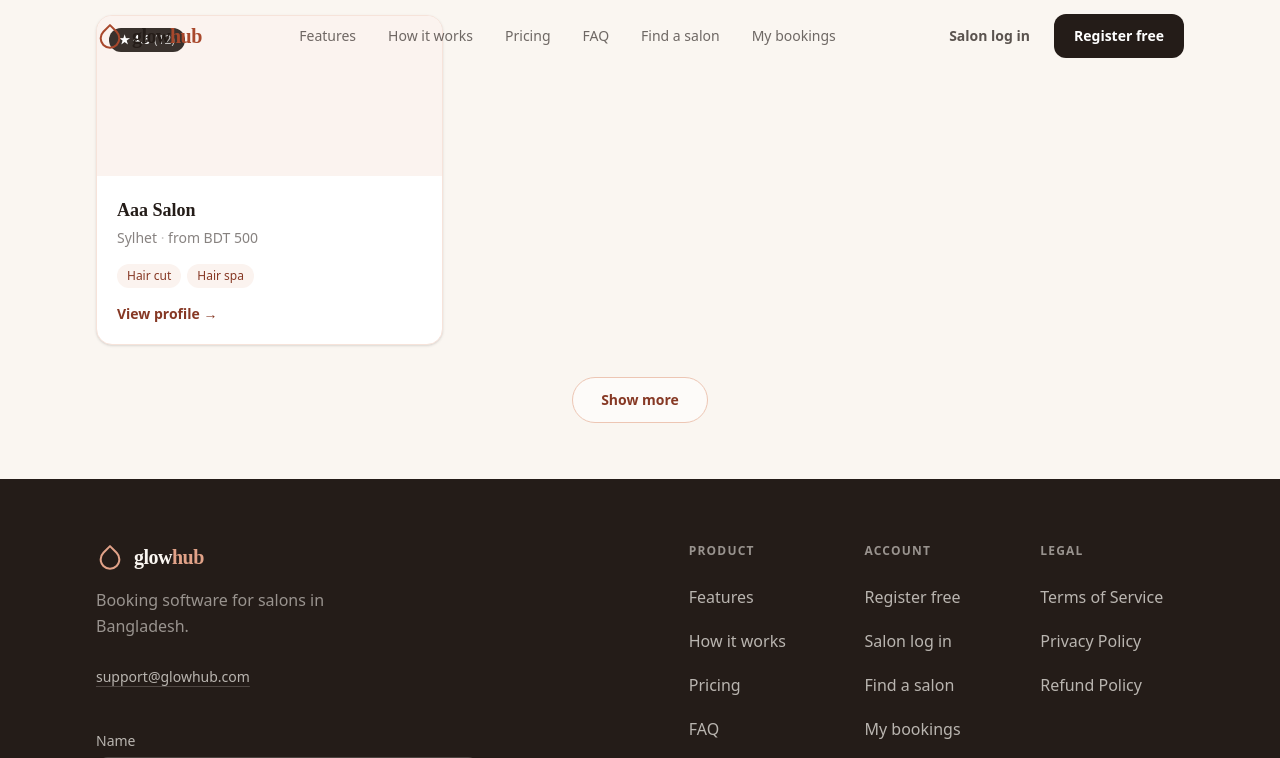
Test case: SalonSearchView › does not leave "Show more" stuck loading when a new query wins the race
(page scrolled)
Click the button with test id "show-more".
click(640, 400)  # box [572,377,708,423]
(page scrolled)
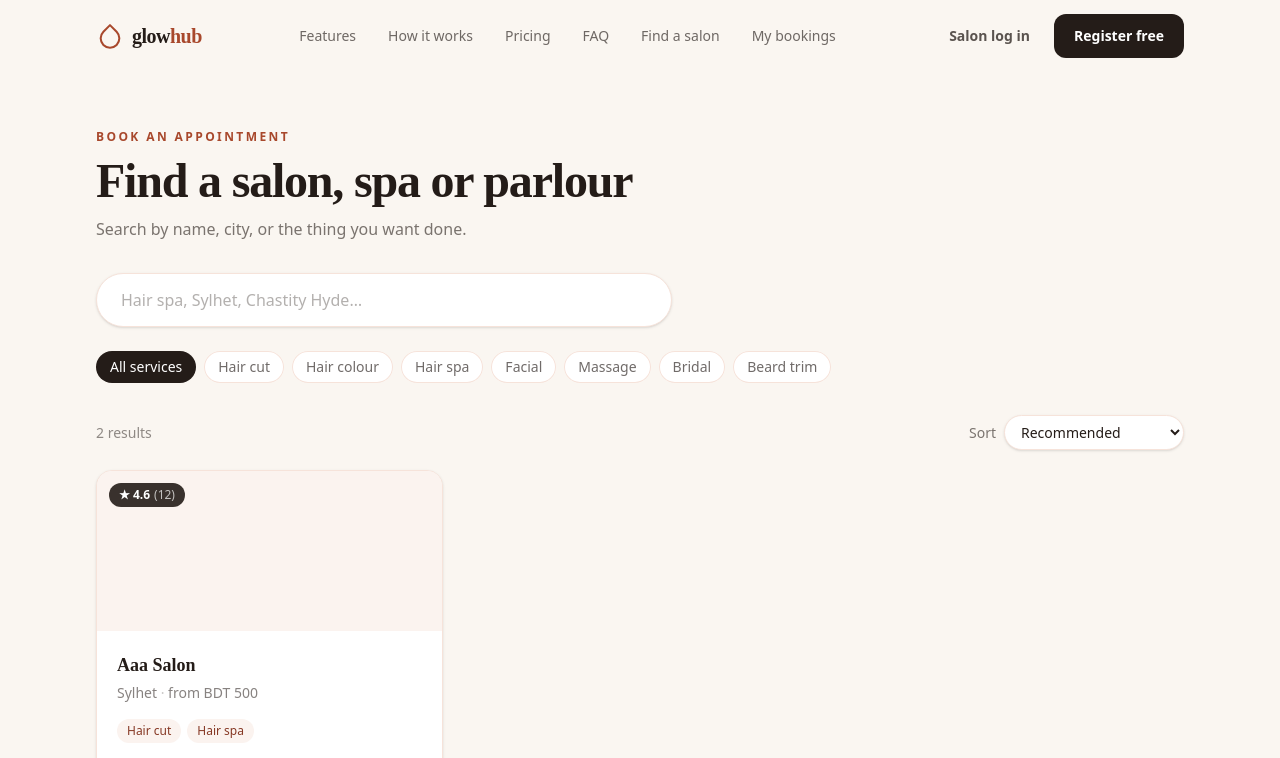
Type "new" into the search field with placeholder "Hair spa, Sylhet, Chastity Hyde…".
click(384, 300); type("new")  # box [96,273,672,327]
Wait 300 ms
(page scrolled)
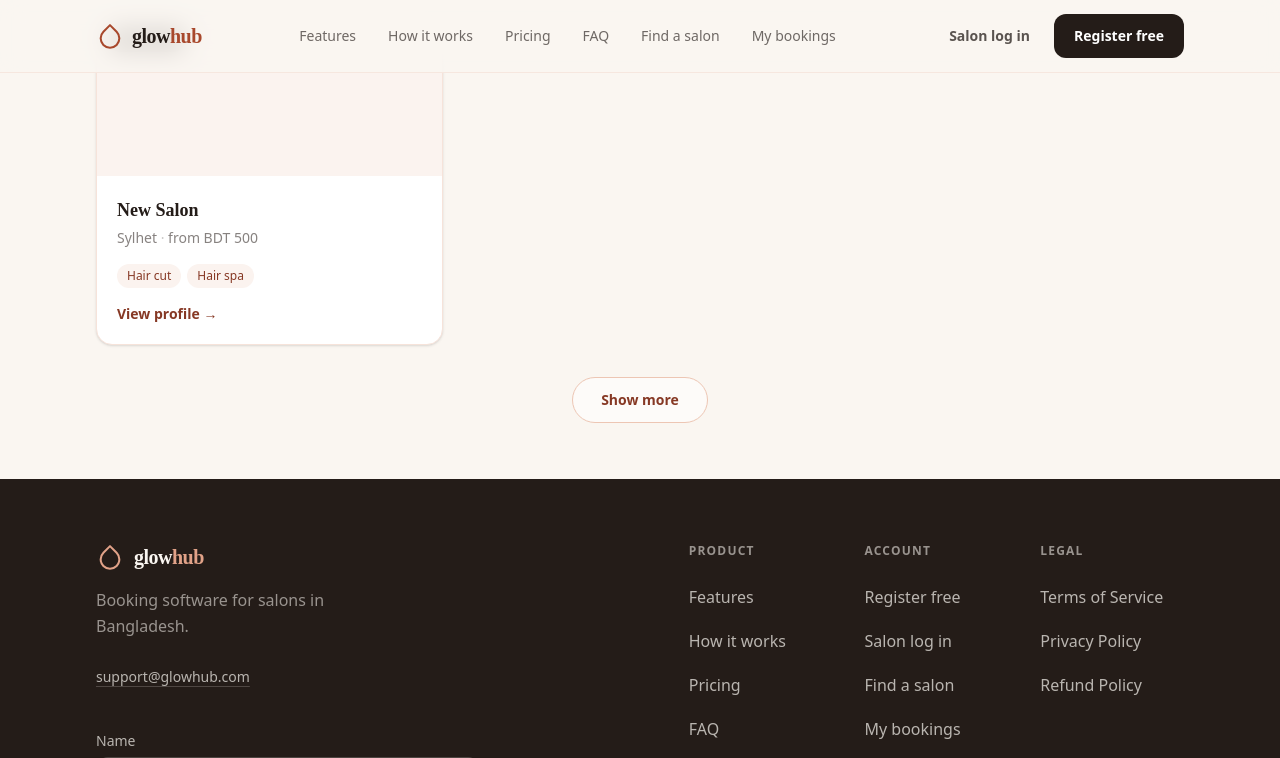
Check: the button with test id "show-more" is enabled, box [572,377,708,423]
Check: the button with test id "show-more" reads "Show more", box [572,377,708,423]
